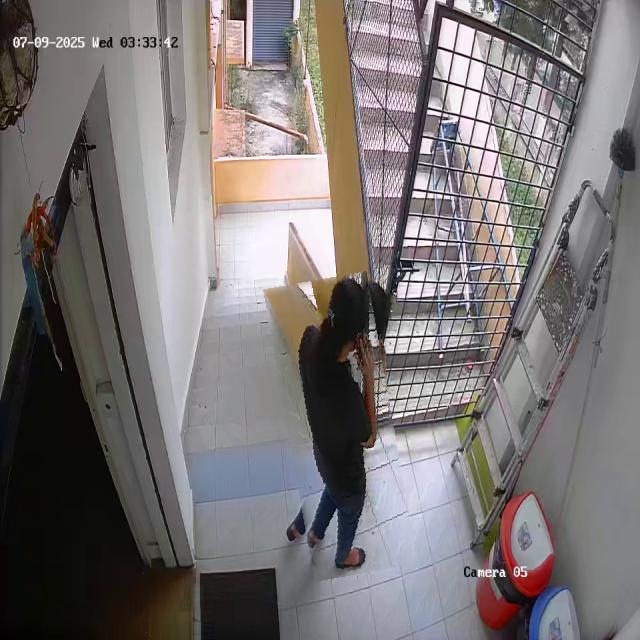person: (276, 275, 405, 578)
